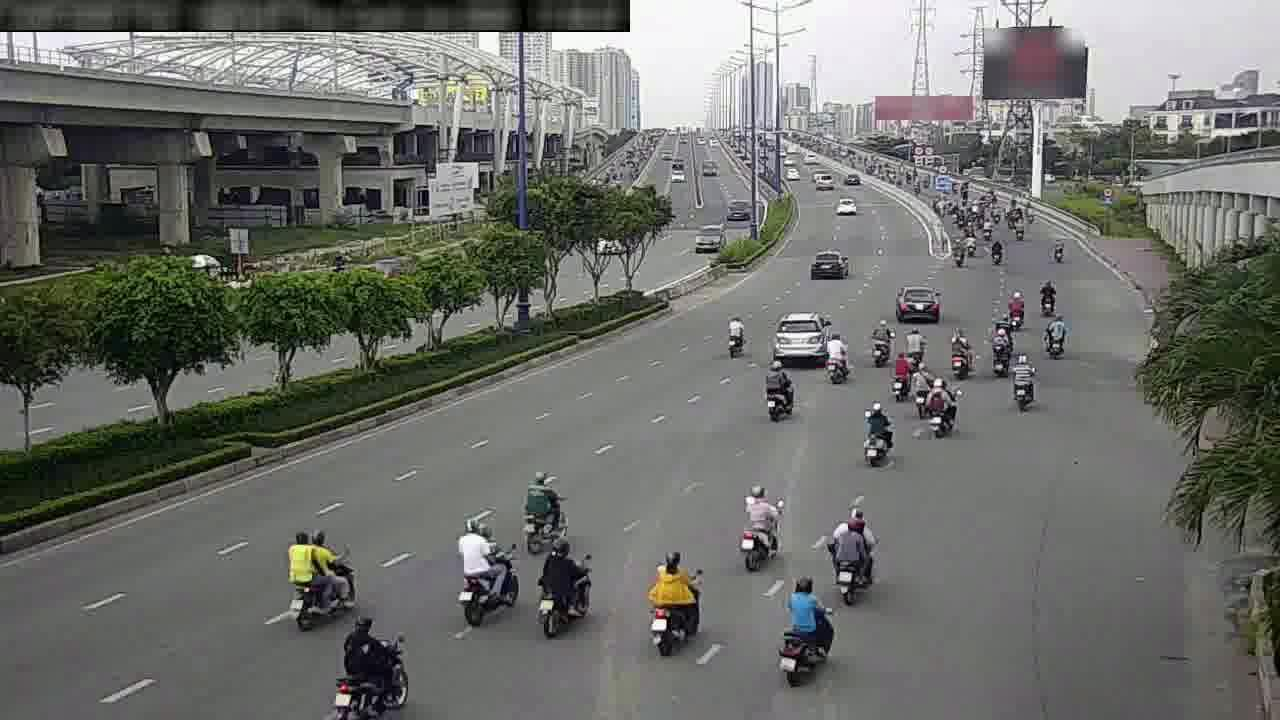container: (773, 307, 830, 364), (890, 280, 942, 323), (805, 245, 849, 282)
motorbike: (331, 613, 416, 713), (279, 522, 355, 626), (449, 519, 520, 628), (770, 573, 840, 676), (639, 546, 707, 647), (531, 534, 597, 635), (823, 509, 881, 599), (728, 481, 784, 567), (515, 466, 570, 546), (852, 401, 898, 469), (753, 360, 799, 424), (1004, 355, 1041, 412), (819, 335, 854, 389), (941, 328, 974, 378), (717, 311, 751, 359), (929, 381, 957, 435), (910, 361, 938, 415), (862, 319, 892, 368), (1038, 313, 1070, 358), (982, 328, 1011, 377), (902, 323, 930, 366), (889, 351, 913, 399), (1032, 277, 1059, 317), (1006, 288, 1027, 328), (1044, 232, 1069, 263), (946, 240, 968, 270), (985, 236, 1006, 266)
